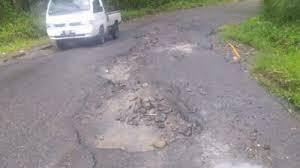Pothole: (67, 28, 244, 160)
